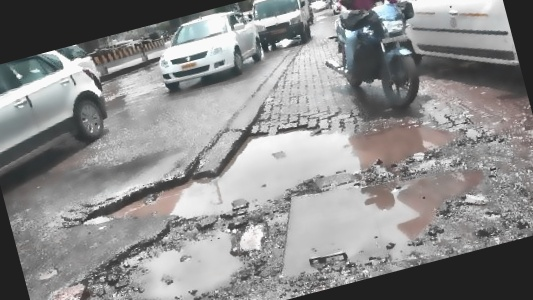pothole: (61, 76, 461, 247), (258, 142, 501, 283), (97, 204, 260, 300)
